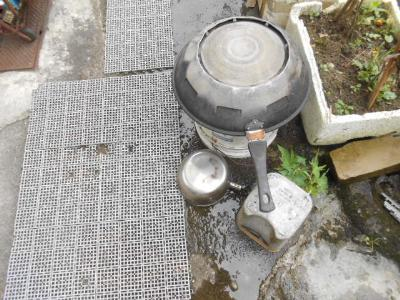bowl: (172, 14, 311, 138), (175, 147, 231, 208)
bucket: (235, 171, 314, 256)
